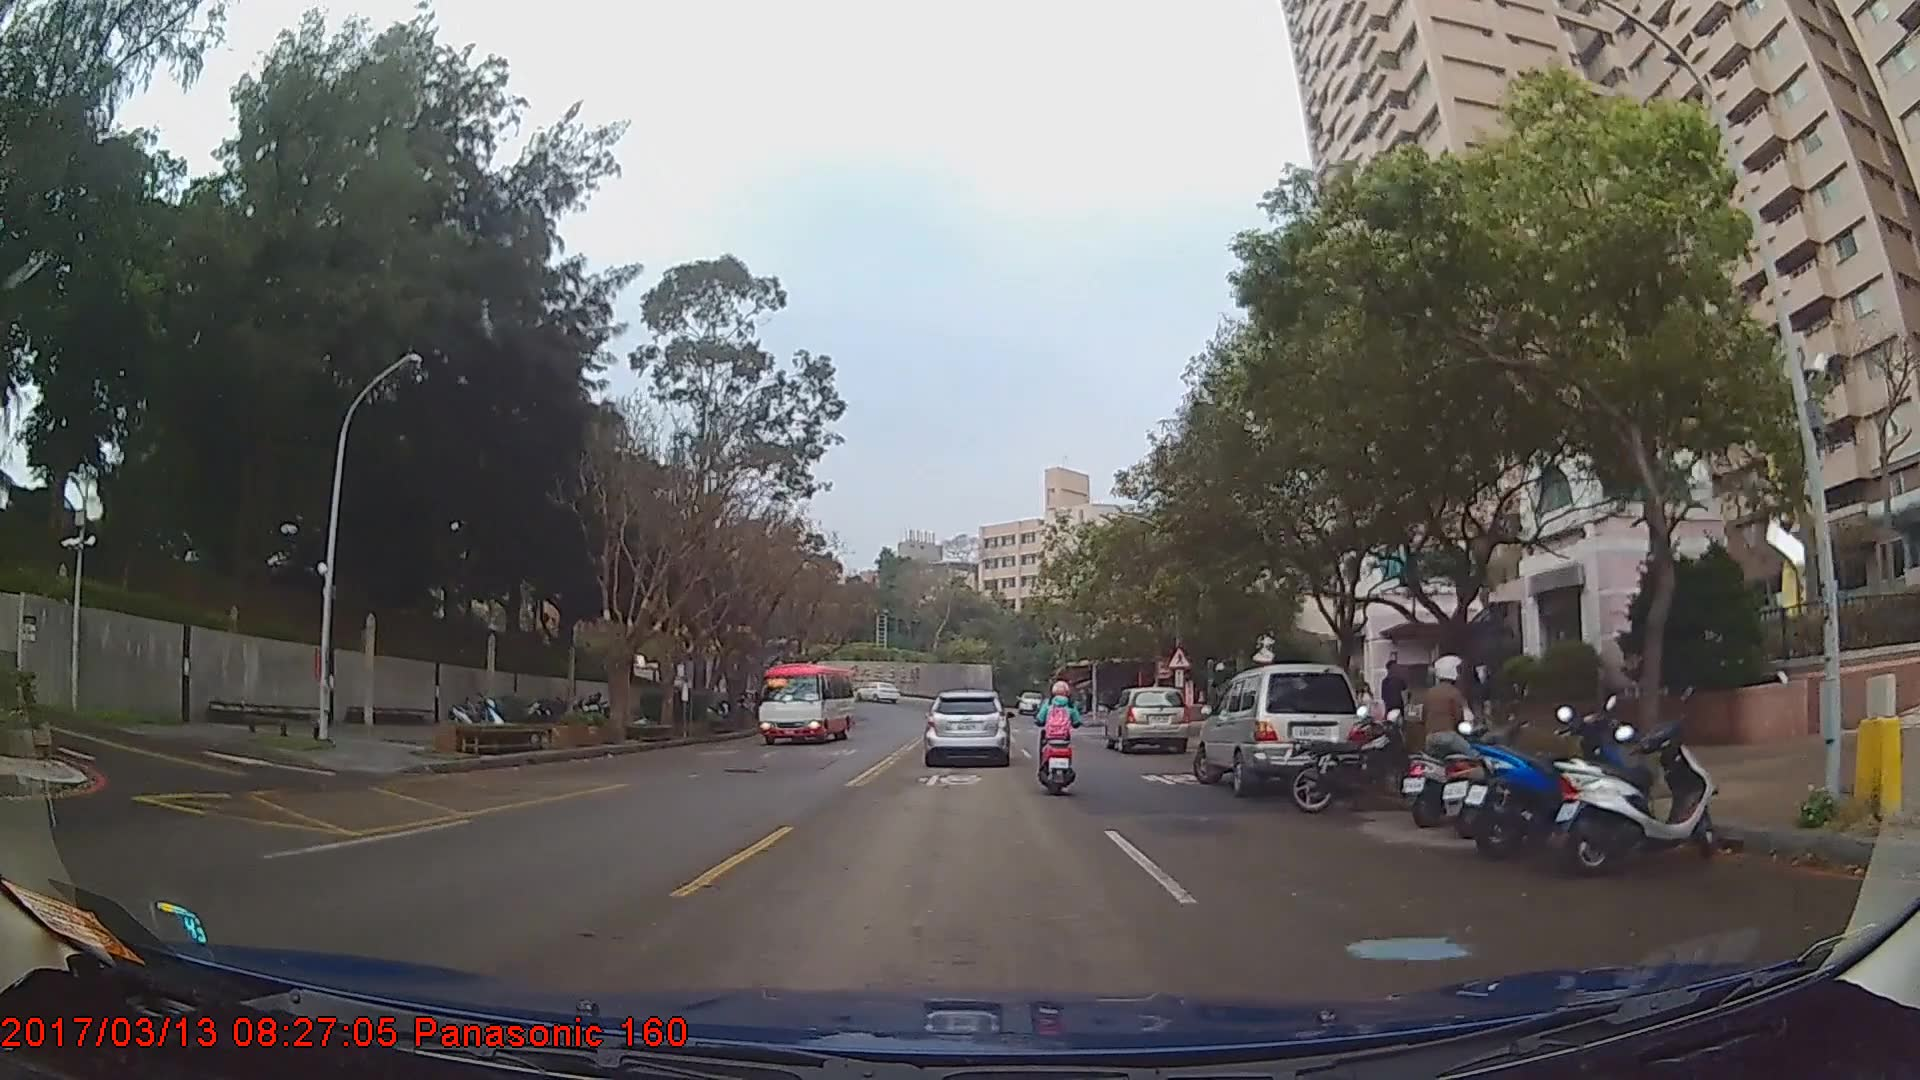pedestrian: (1383, 657, 1409, 733)
rider: (1033, 669, 1087, 798)
vehicle: (1193, 663, 1366, 796), (758, 660, 854, 744), (922, 684, 1011, 763), (1104, 685, 1188, 753), (853, 676, 900, 702)
